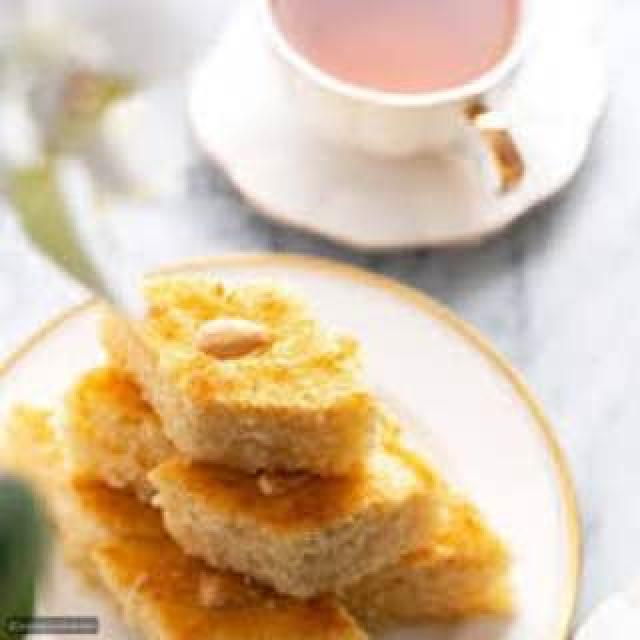pasposa: (24, 253, 513, 640)
